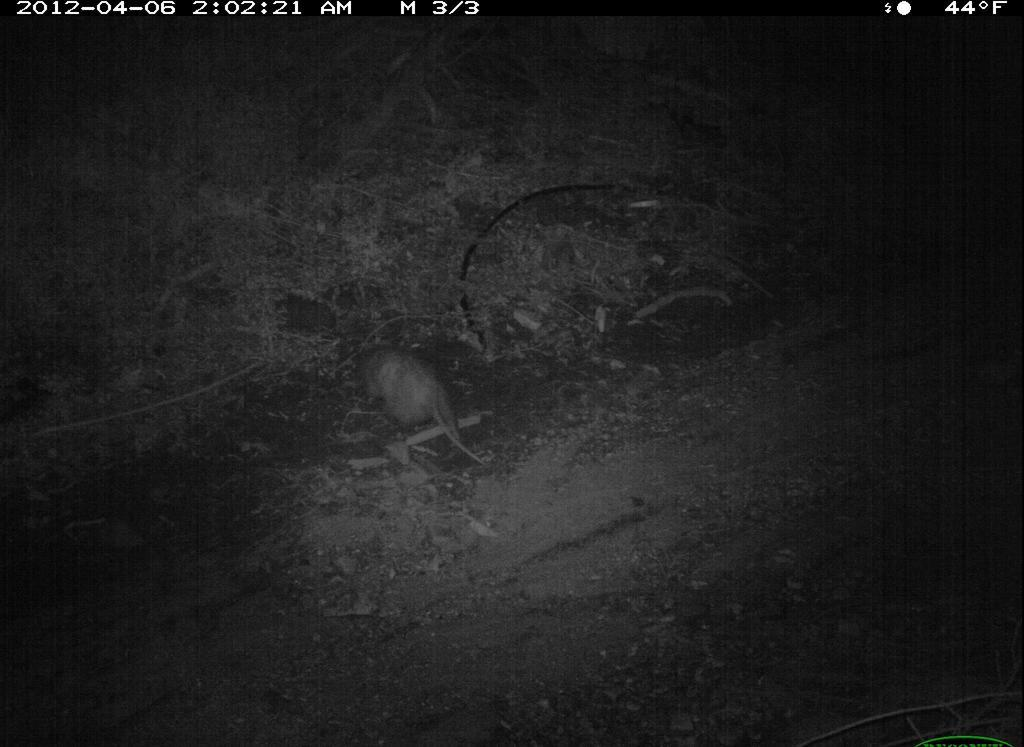opossum: (347, 333, 497, 469)
